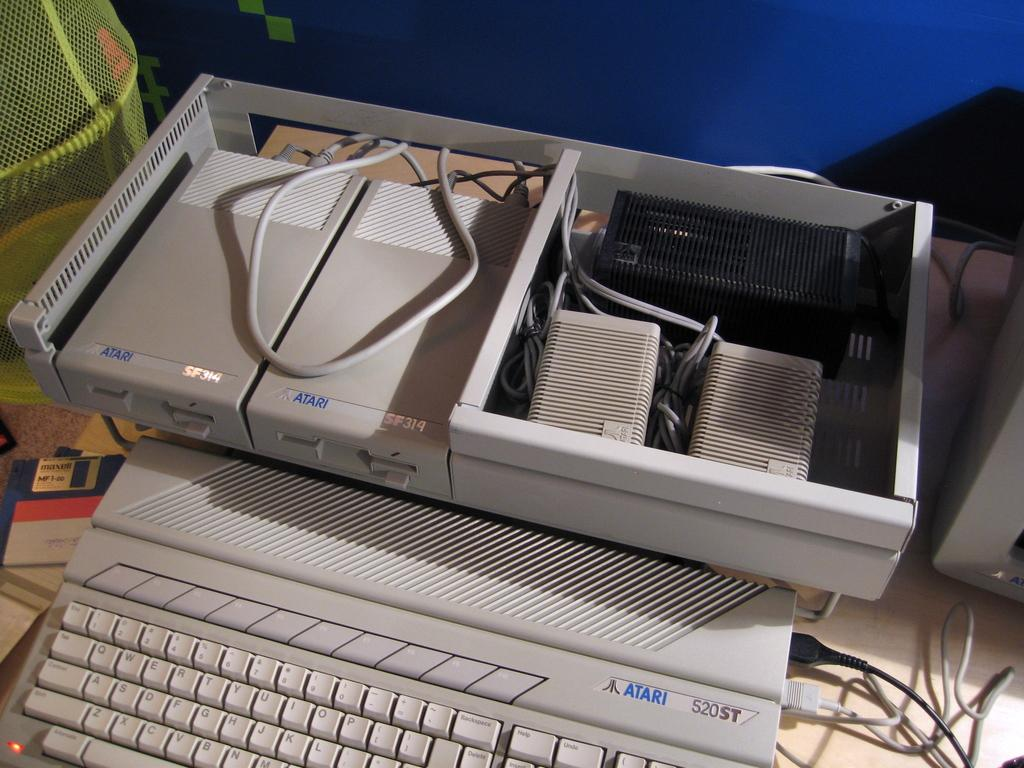Computer-keyboard: (0, 436, 797, 767)
